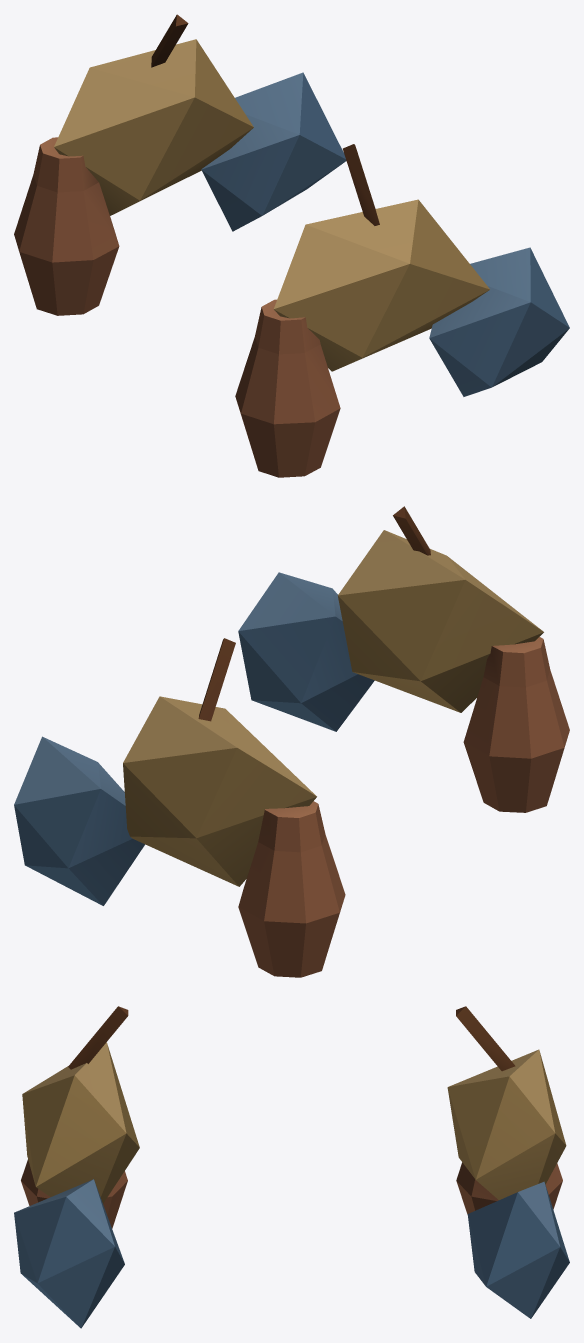
Rendered from gd_camel_bundles.glb.
3 renders of one model, top to bottom at view 1: azimuth 30°, elevation 25°; view 2: azimuth 150°, elevation 25°; view 3: azimuth 270°, elevation 25°, orthographic. The views are drawn at different scales.
Visible parts, largest first — view 1: base; view 2: base; view 3: base.
Boxes of the visible parts, x1,y1,x2,y2 form: base: (14, 14, 569, 477); base: (14, 506, 569, 977); base: (14, 1006, 569, 1328).
Size of the model in its own units: 0.2147 by 0.183 by 0.3325.
